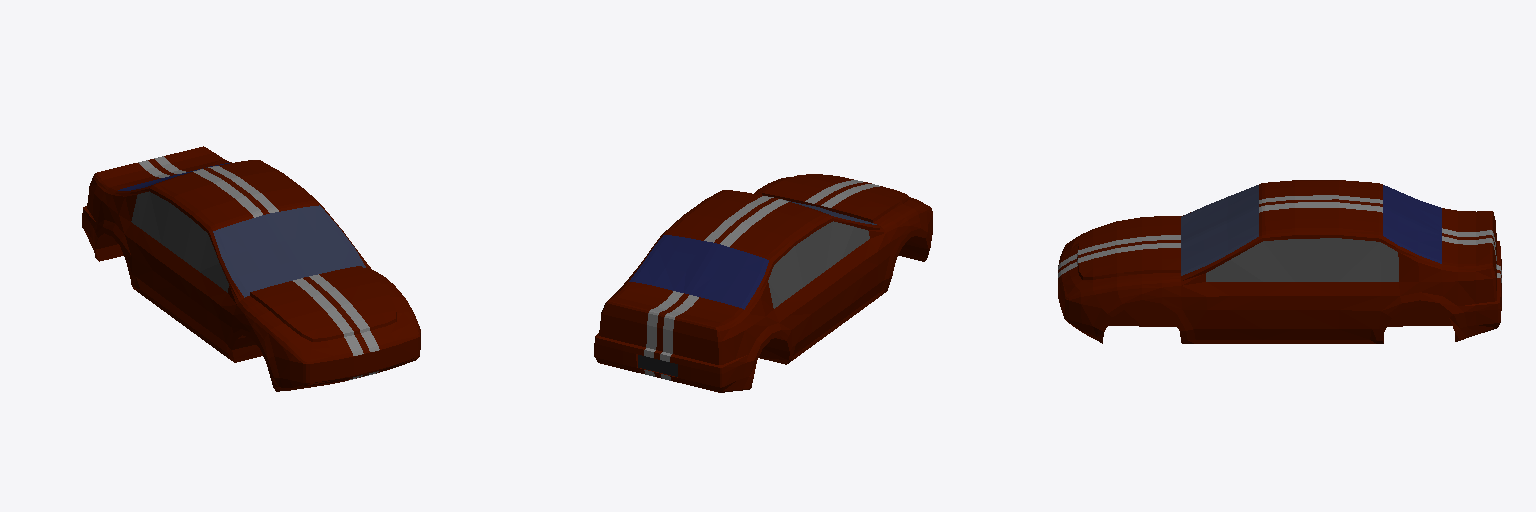
File: car_body.obj
The picture shows the model from 3 angles: view 1: azimuth 30°, elevation 25°; view 2: azimuth 150°, elevation 25°; view 3: azimuth 270°, elevation 25°; orthographic projection.
Visible parts, largest first — view 1: Mesh_Mesh_Mesh.002_Car_Blu; view 2: Mesh_Mesh_Mesh.002_Car_Blu; view 3: Mesh_Mesh_Mesh.002_Car_Blu.
Boxes of the visible parts, x1=… form: Mesh_Mesh_Mesh.002_Car_Blu: x1=82, y1=146, x2=420, y2=391; Mesh_Mesh_Mesh.002_Car_Blu: x1=594, y1=174, x2=932, y2=392; Mesh_Mesh_Mesh.002_Car_Blu: x1=1058, y1=180, x2=1501, y2=343.
Bounding box in the file's own units: 1.87 × 1.32 × 4.8.